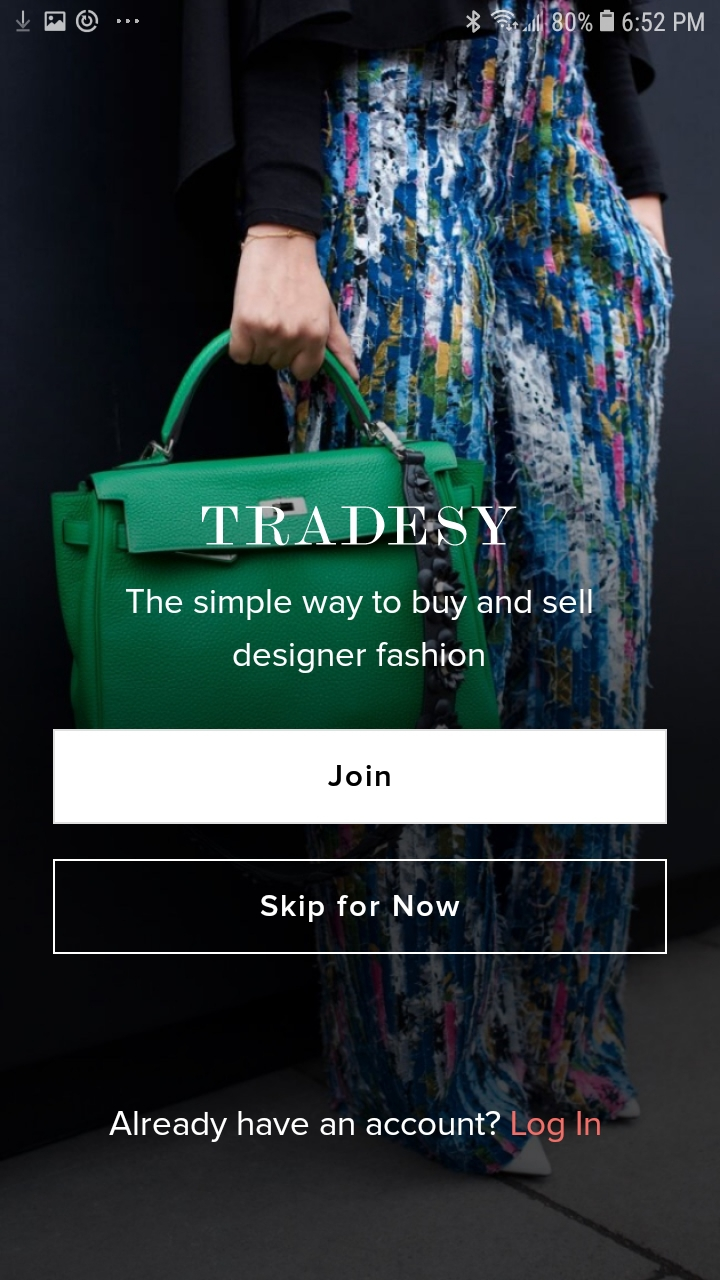BackgroundImage: (1, 1, 720, 1280)
Text: (126, 589, 593, 674), (109, 1110, 601, 1143), (201, 506, 517, 547)
TextButton: (53, 859, 668, 955), (53, 729, 667, 825)
UpperTaskBar: (13, 10, 704, 34)
